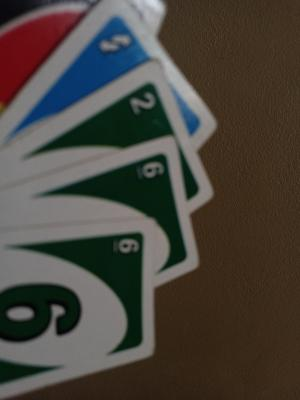num_2: (128, 91, 160, 117)
num_6: (101, 234, 146, 257), (136, 162, 169, 183)
reverse: (89, 30, 136, 60)
